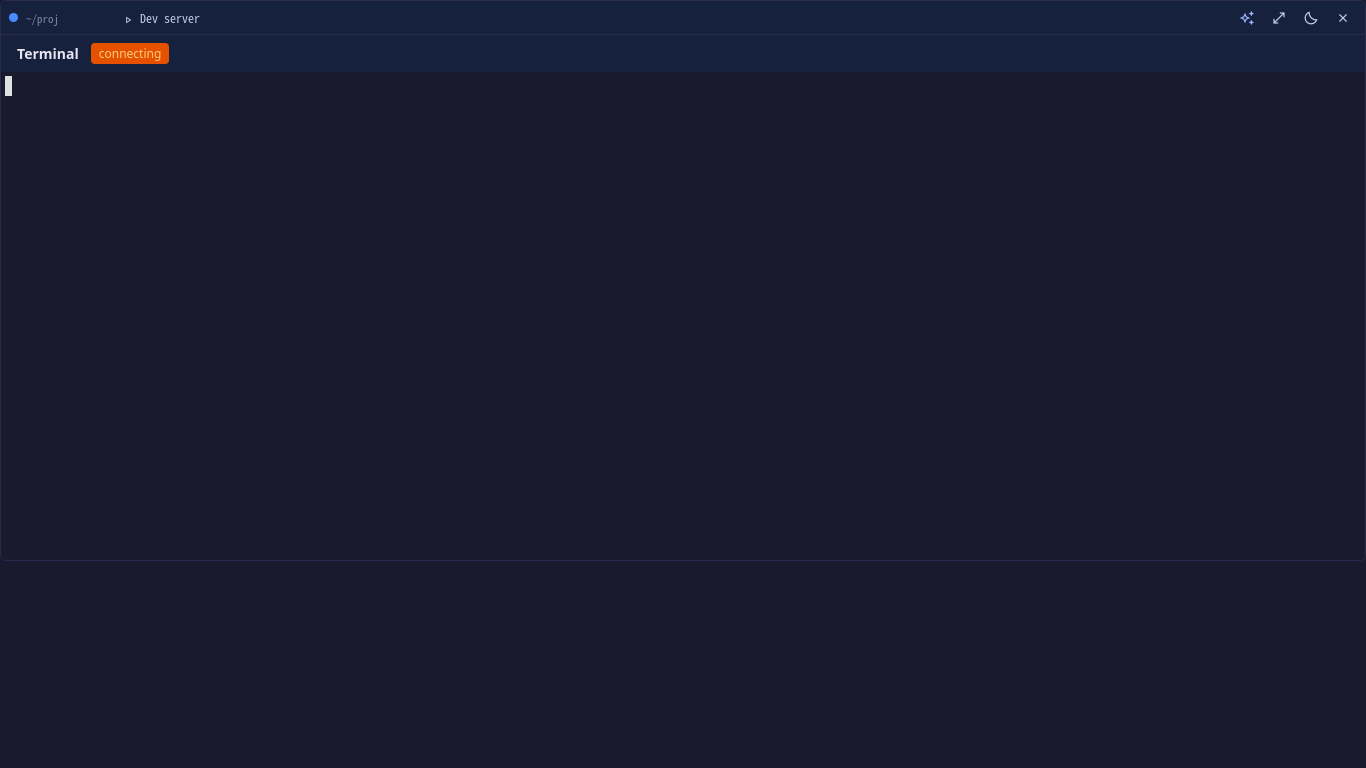
Test: CommandCell summarize › surfaces the server error message on failure
The image size is (1366, 768).
Click the button named "Summarize command output". click: (1247, 18)
box: [1233, 4, 1261, 30]
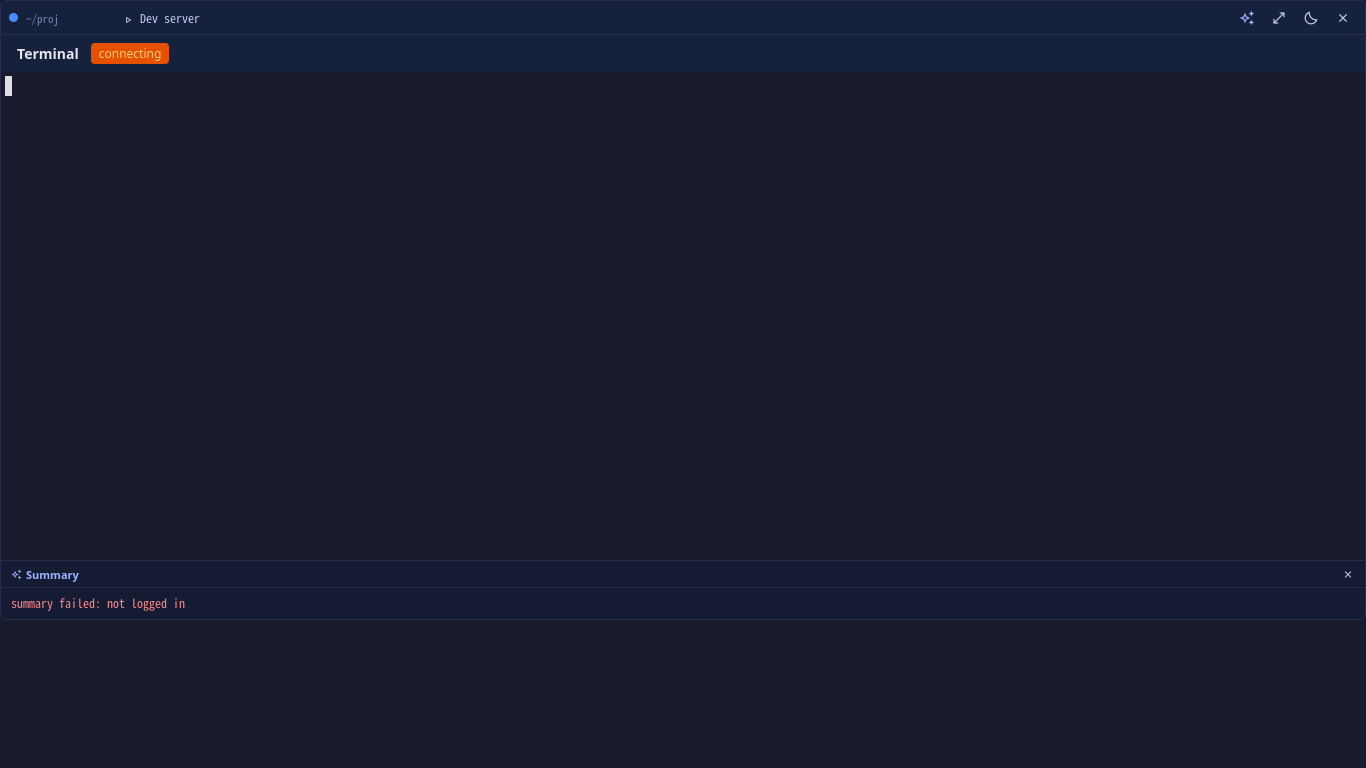
Expected: the text with test id "cell-summary-error" shows "not logged in", [11, 594, 185, 611]
